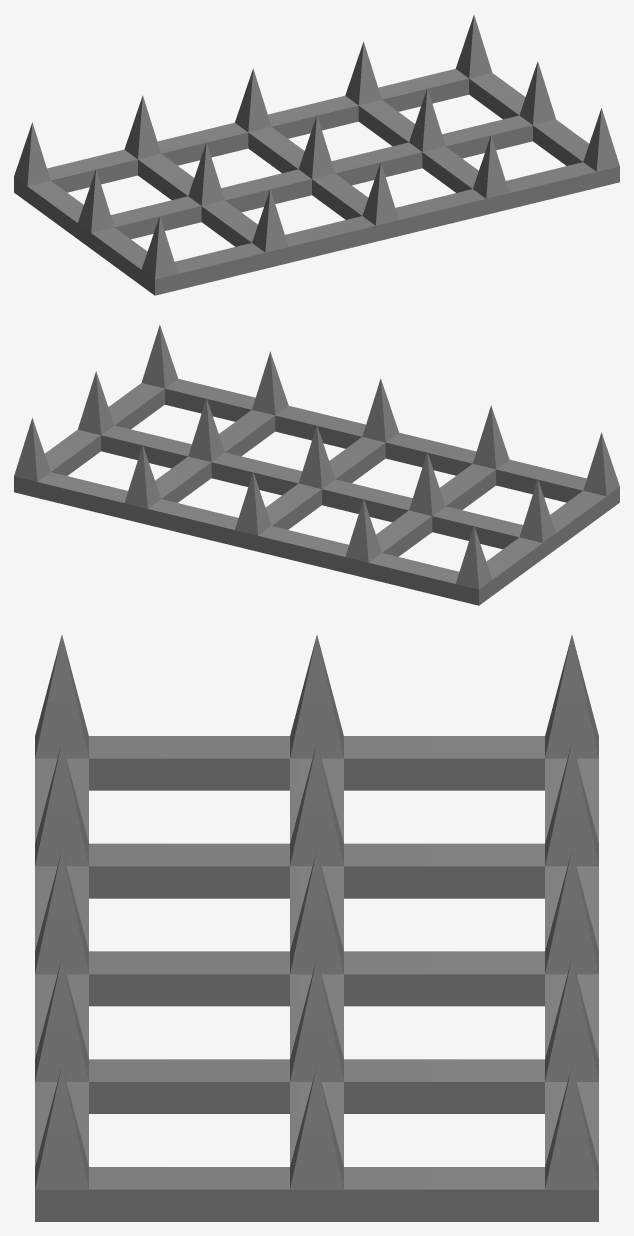
File: Mini_Iron_Barrier.fbx
The picture shows the model from 3 angles, top to bottom: view 1: azimuth 30°, elevation 25°; view 2: azimuth 150°, elevation 25°; view 3: azimuth 270°, elevation 25°; orthographic projection. The views are drawn at different scales.
Visible parts, largest first — view 1: Mini_Iron_Barrier; view 2: Mini_Iron_Barrier; view 3: Mini_Iron_Barrier.
Part boxes in pixels (bbox=[...]): Mini_Iron_Barrier: bbox=[14, 14, 619, 295]; Mini_Iron_Barrier: bbox=[14, 324, 619, 605]; Mini_Iron_Barrier: bbox=[35, 635, 598, 1221].
Bounding box in the file's own units: 140 × 20.96 × 73.71.
1 material, 1 textured.
